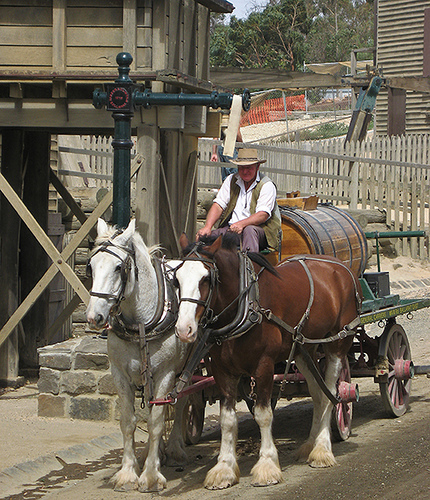horse: (166, 228, 365, 490), (84, 215, 199, 492)
